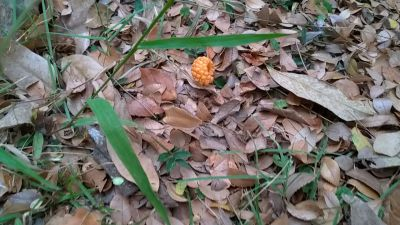eggs: (189, 53, 218, 87)
